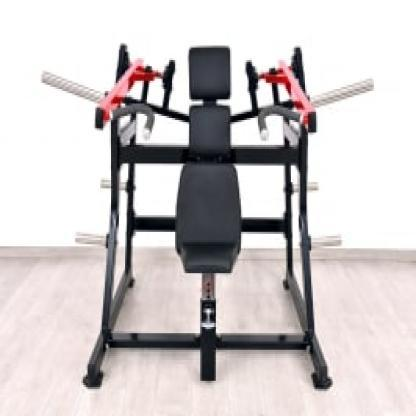shoulder press machine: (27, 25, 399, 405)
